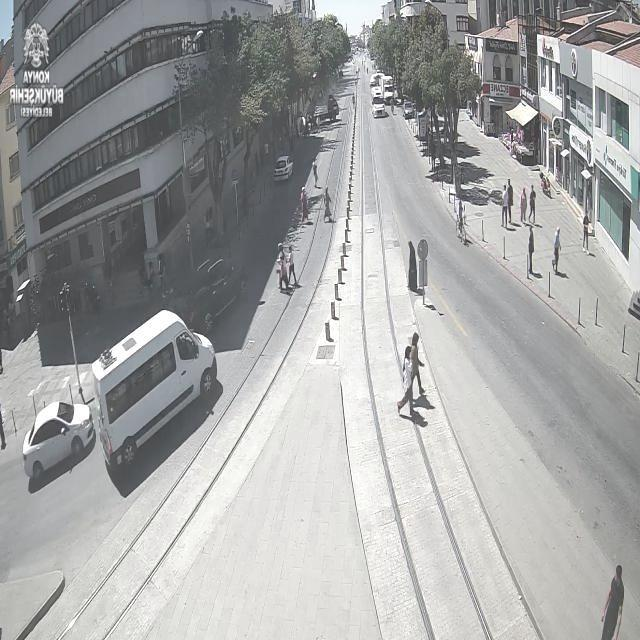Car: (21, 401, 97, 481), (181, 260, 247, 334), (273, 156, 294, 181), (372, 102, 387, 118), (403, 102, 415, 118)
Truck: (381, 74, 395, 104)
Van: (92, 309, 222, 472)
